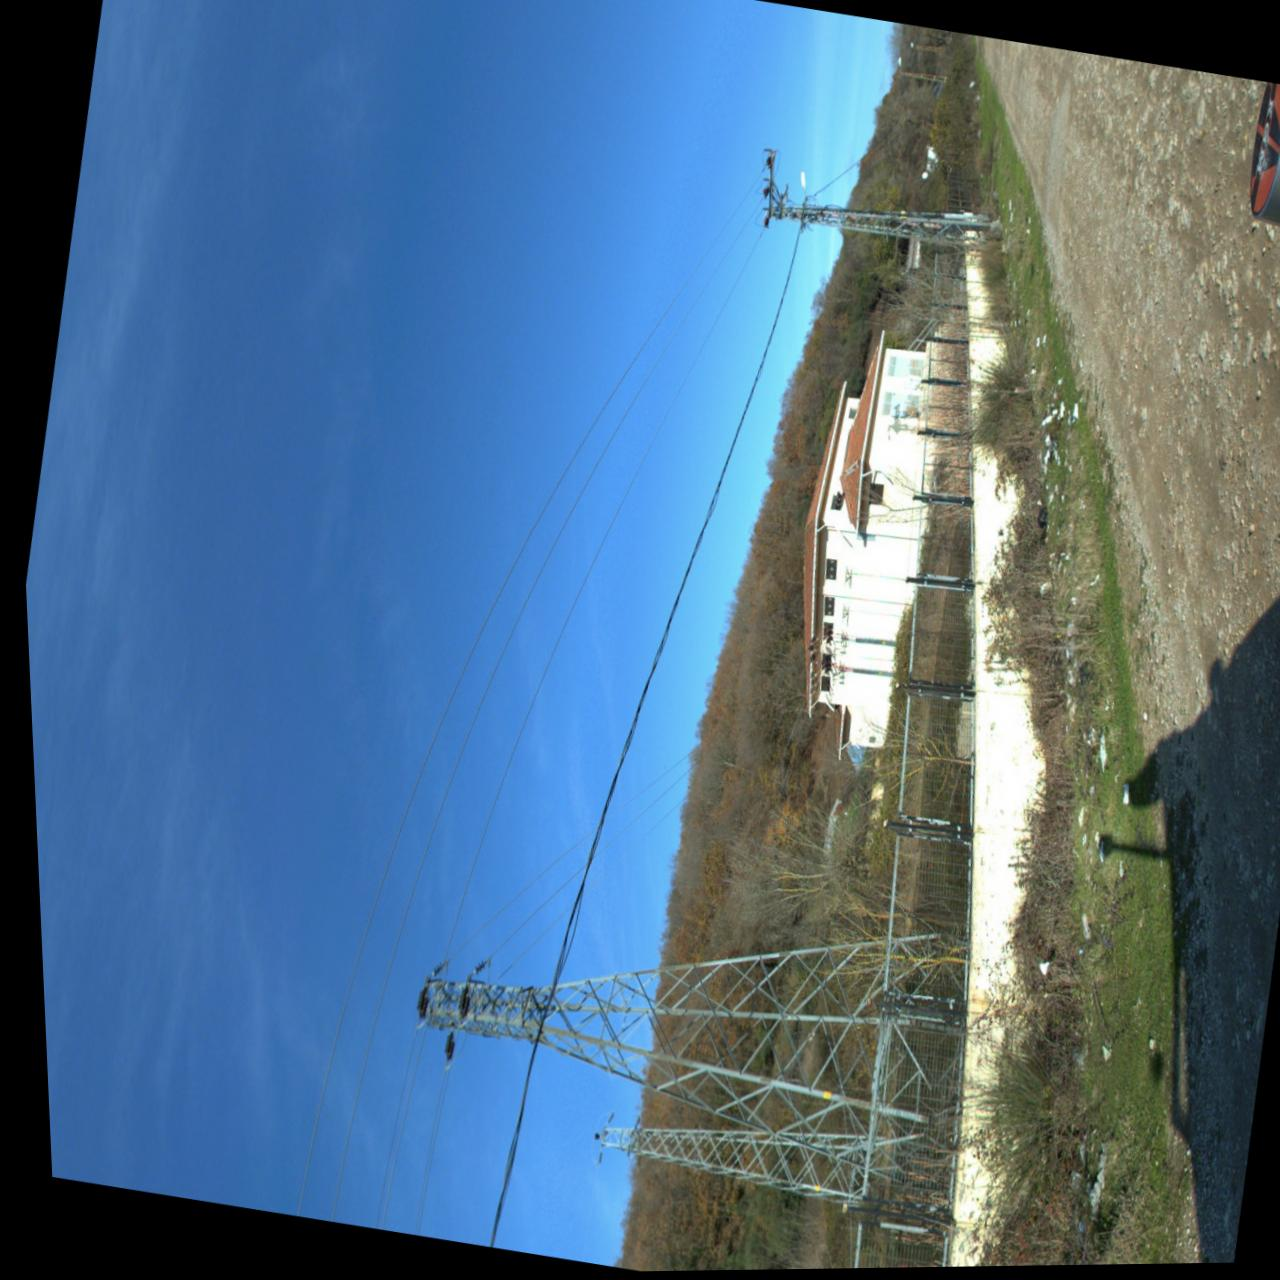Utility Pole Information Plate: (812, 1092, 821, 1099)
